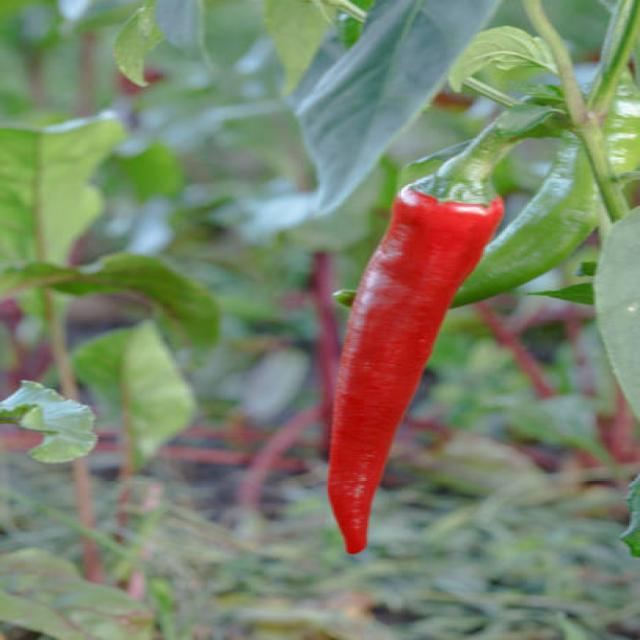Ripe: (329, 187, 500, 553)
